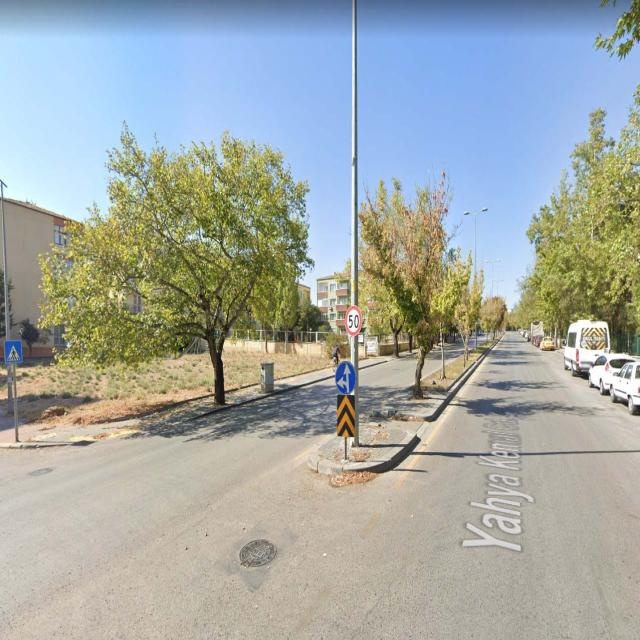ilerisol: (335, 361, 356, 395)
